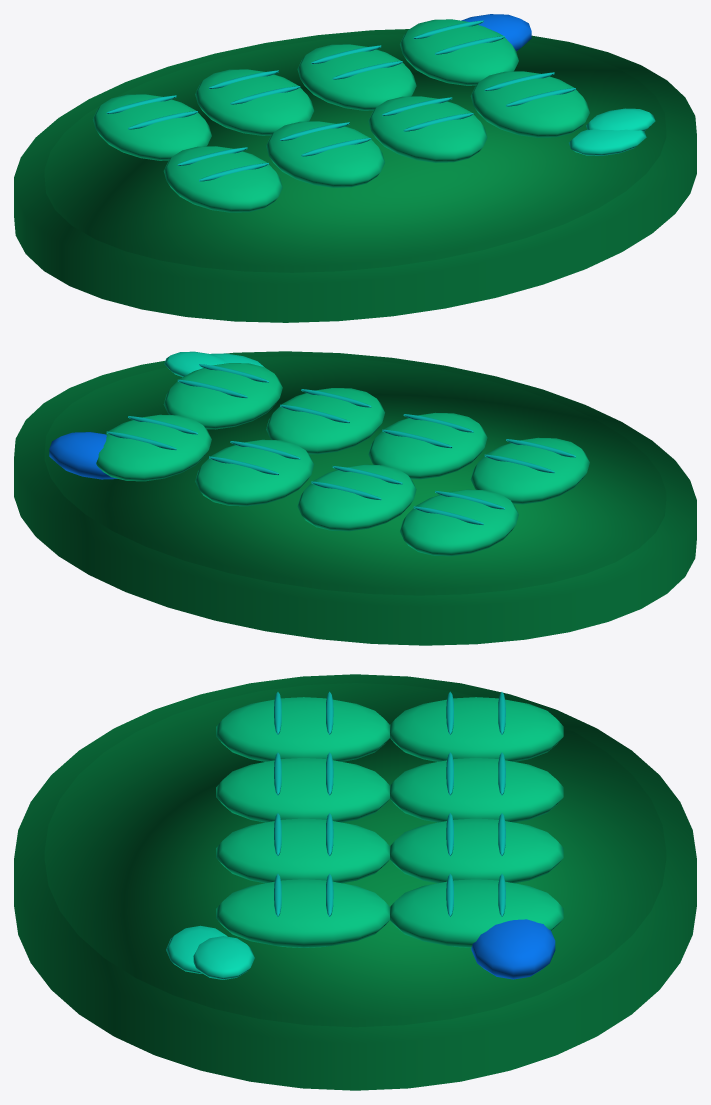
The model's file is sashimi.glb.
The picture shows the model from 3 angles, top to bottom: view 1: azimuth 30°, elevation 25°; view 2: azimuth 150°, elevation 25°; view 3: azimuth 270°, elevation 25°; orthographic projection. The views are drawn at different scales.
Bounding box in the file's own units: 0.3045 × 0.0404 × 0.2378.
